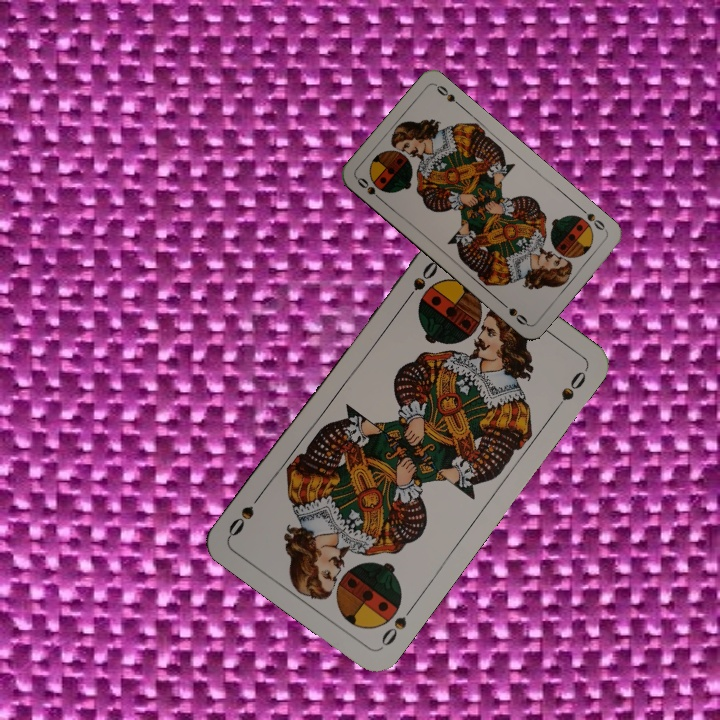SO: (399, 256, 441, 308), (377, 600, 418, 651), (353, 173, 386, 205), (576, 203, 610, 234)
